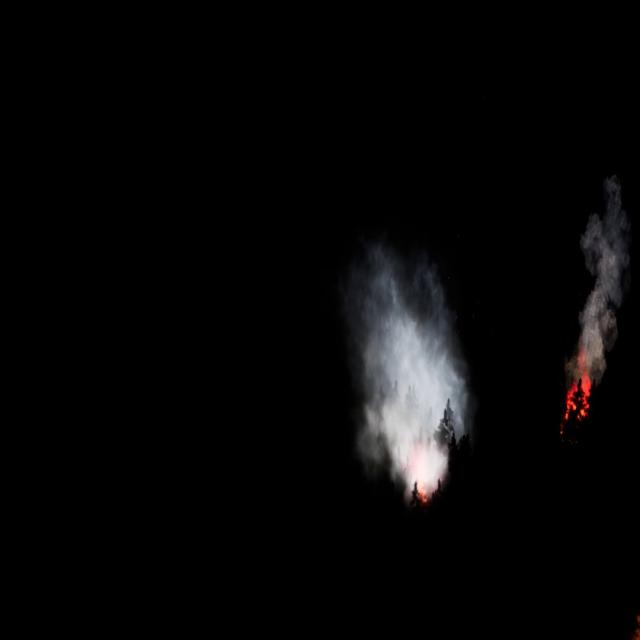fire: (564, 366, 588, 421)
smoke: (353, 241, 473, 495), (579, 178, 640, 384)
